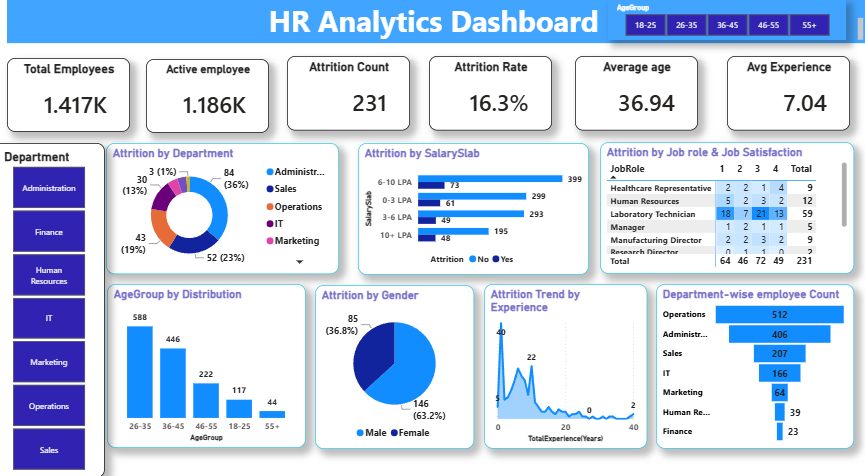

This screenshot's page, from the dashboard's own definition file:
{"tool":"powerbi","page":{"name":"Page 1","canvas":[1280,720],"ordinal":0},"visuals":[{"type":"cardVisual","title":"Total Employees","fields":{"Data":["CountNonNull(HR_Analytics-4.EmpID)"]},"box":[22.5,105,180,108],"z":0},{"type":"cardVisual","title":"Active employee","fields":{"Data":["CountNonNull(HR_Analytics-4.EmployeeCount)"]},"box":[225,106.2,180,108],"z":1000},{"type":"cardVisual","title":"Attrition Count","fields":{"Data":["Sum(HR_Analytics-4.attrition count)"]},"box":[431.2,102.5,180,108.8],"z":2000},{"type":"cardVisual","title":"Average age","fields":{"Data":["Avg(HR_Analytics-4.Age)"]},"box":[853.8,102.5,180,108.8],"z":3000},{"type":"cardVisual","title":"Avg Experience","fields":{"Data":["Avg(HR_Analytics-4.YearsatCompany)"]},"box":[1075,102.5,180,108.8],"z":4000},{"type":"cardVisual","title":"Attrition Rate","fields":{"Data":["HR_Analytics-4.Attrition rate %"]},"box":[640,102.5,180,108.8],"z":5000},{"type":"donutChart","title":"Attrition by Department","fields":{"Category":["HR_Analytics-4.Department"],"Y":["Sum(HR_Analytics-4.attrition count)"]},"box":[166.8,229.8,341,191.7],"z":6000},{"type":"clusteredBarChart","title":"Attrition by SalarySlab ","fields":{"Category":["HR_Analytics-4.SalarySlab"],"Y":["CountNonNull(HR_Analytics-4.EmpID)"],"Series":["HR_Analytics-4.Attrition"]},"box":[535.6,229.8,338,193.2],"z":7000},{"type":"textbox","box":[21.8,15.1,1258.2,68.9],"z":8000},{"type":"pivotTable","title":"Attrition by Job role & Job Satisfaction","fields":{"Rows":["HR_Analytics-4.JobRole"],"Values":["Sum(HR_Analytics-4.attrition count)"],"Columns":["HR_Analytics-4.JobSatisfaction"]},"box":[889.8,228.3,371.7,193.2],"z":9000},{"type":"columnChart","title":" AgeGroup by  Distribution","fields":{"Y":["Sum(HR_Analytics-4.EmployeeCount)"],"Category":["HR_Analytics-4.AgeGroup"]},"box":[168.3,436.1,291.2,240],"z":10000},{"type":"pieChart","title":" Attrition  by Gender","fields":{"Y":["Sum(HR_Analytics-4.attrition count)"],"Category":["HR_Analytics-4.Gender"]},"box":[472.7,437.6,232.7,240],"z":11000},{"type":"areaChart","title":" Attrition Trend by Experience","fields":{"Y2":["Sum(HR_Analytics-4.attrition count)"],"Category":["HR_Analytics-4.TotalExperience(Years)"]},"box":[720,436.1,238.5,241.5],"z":11001},{"type":"funnel","title":"  Department-wise employee Count","fields":{"Category":["HR_Analytics-4.Department"],"Y":["CountNonNull(HR_Analytics-4.EmpID)"]},"box":[971.7,436.1,289.8,241.5],"z":11002},{"type":"slicer","fields":{"Values":["HR_Analytics-4.Department"]},"box":[0,229.8,165,490],"z":11003},{"type":"slicer","fields":{"Values":["HR_Analytics-4.AgeGroup"]},"box":[901.5,20.5,348.3,58.5],"z":11004}]}

Visuals, with their boxes in screenshot pixels (x1, y1, x2, y2), scaled from the page's 1280x720 canvas onto the 865x476 screenshot:
"Total Employees" cardVisual: [x1=15, y1=69, x2=137, y2=141]
"Active employee" cardVisual: [x1=152, y1=70, x2=274, y2=142]
"Attrition Count" cardVisual: [x1=291, y1=68, x2=413, y2=140]
"Average age" cardVisual: [x1=577, y1=68, x2=699, y2=140]
"Avg Experience" cardVisual: [x1=726, y1=68, x2=848, y2=140]
"Attrition Rate" cardVisual: [x1=432, y1=68, x2=554, y2=140]
"Attrition by Department" donutChart: [x1=113, y1=152, x2=343, y2=279]
"Attrition by SalarySlab " clusteredBarChart: [x1=362, y1=152, x2=590, y2=280]
textbox: [x1=15, y1=10, x2=864, y2=56]
"Attrition by Job role & Job Satisfaction" pivotTable: [x1=601, y1=151, x2=852, y2=279]
" AgeGroup by  Distribution" columnChart: [x1=114, y1=288, x2=311, y2=447]
" Attrition  by Gender" pieChart: [x1=319, y1=289, x2=477, y2=448]
" Attrition Trend by Experience" areaChart: [x1=487, y1=288, x2=648, y2=448]
"  Department-wise employee Count" funnel: [x1=657, y1=288, x2=852, y2=448]
slicer - HR_Analytics-4.Department: [x1=0, y1=152, x2=112, y2=475]
slicer - HR_Analytics-4.AgeGroup: [x1=609, y1=14, x2=845, y2=52]
